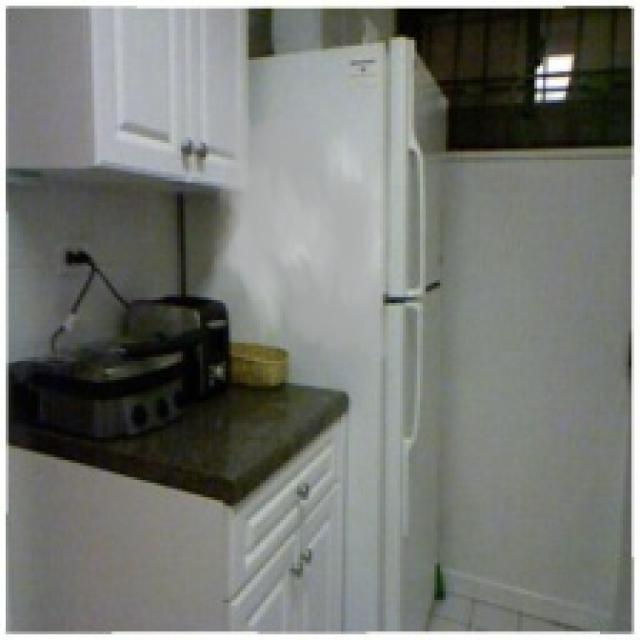Smoke: (200, 97, 414, 372)
